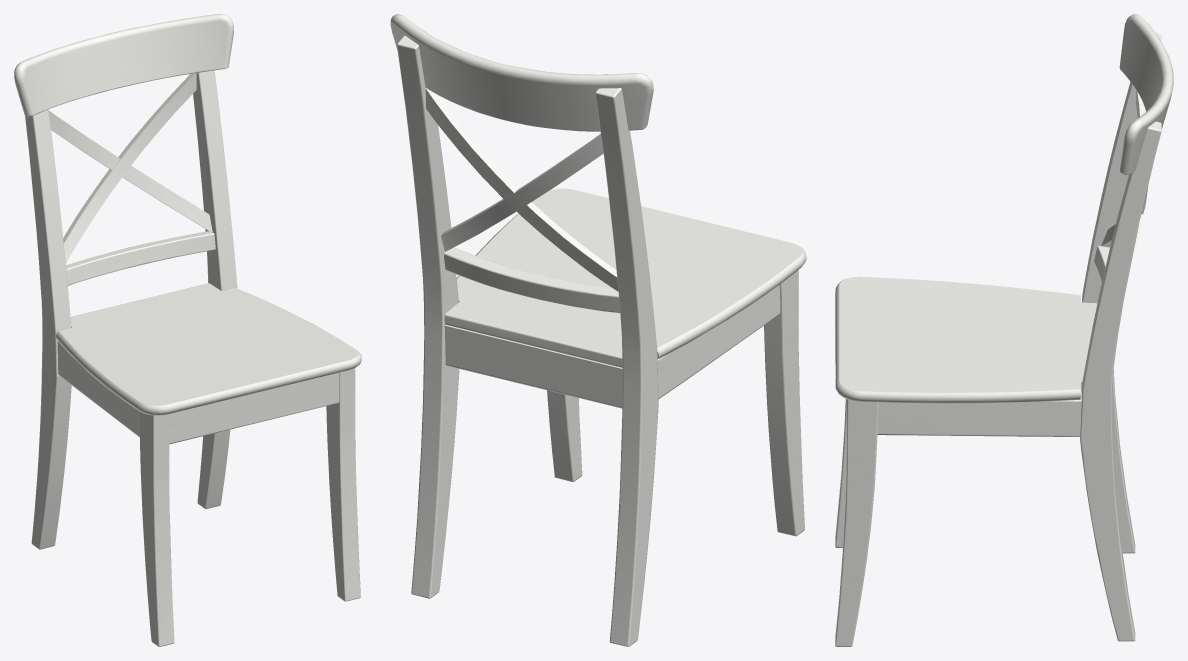
File: rosentorp_chair_white.glb
3 renders of one model, left to right at view 1: azimuth 30°, elevation 25°; view 2: azimuth 150°, elevation 25°; view 3: azimuth 270°, elevation 25°, orthographic. The views are drawn at different scales.
Parts seen in each view (by area): view 1: ASY_ART_80569998_S01_NV01; view 2: ASY_ART_80569998_S01_NV01; view 3: ASY_ART_80569998_S01_NV01.
Part boxes in pixels (x1=…): ASY_ART_80569998_S01_NV01: x1=14, y1=14, x2=361, y2=646; ASY_ART_80569998_S01_NV01: x1=390, y1=14, x2=806, y2=646; ASY_ART_80569998_S01_NV01: x1=835, y1=14, x2=1173, y2=646.
Bounding box in the file's own units: 0.4364 × 0.9096 × 0.531.
Materials: 1 (1 with a texture image).
